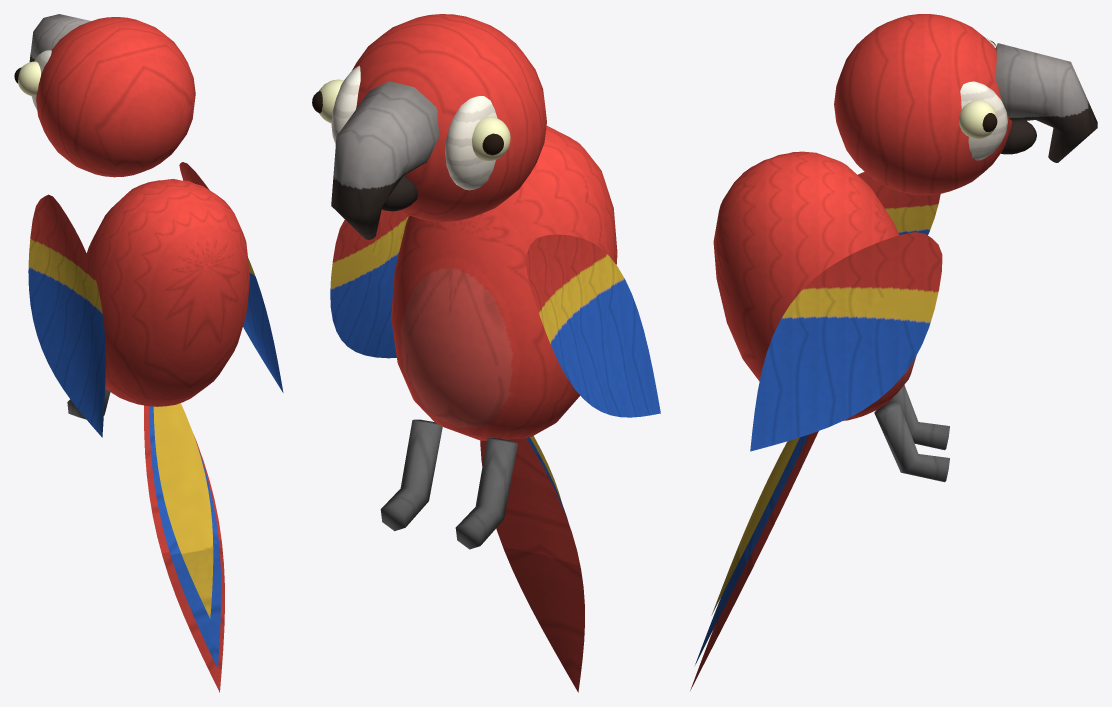
File: parrot.glb
3 views of the same model, side by side, from view 1: azimuth 30°, elevation 25°; view 2: azimuth 150°, elevation 25°; view 3: azimuth 270°, elevation 25° (orthographic). The views are drawn at different scales.
Visible parts, largest first — view 1: Body, Head, WingL, WingR; view 2: Body, Head, WingL, WingR; view 3: Head, Body, WingR, WingL.
Part boxes in pixels (bbox=[...]): Body: bbox=[67, 179, 249, 692]; Head: bbox=[14, 14, 195, 177]; WingL: bbox=[28, 194, 105, 437]; WingR: bbox=[179, 162, 283, 392]; Body: bbox=[380, 126, 617, 692]; Head: bbox=[312, 14, 546, 239]; WingL: bbox=[526, 234, 660, 417]; WingR: bbox=[330, 209, 408, 358]; Head: bbox=[834, 14, 1097, 195]; Body: bbox=[690, 151, 949, 690]; WingR: bbox=[750, 232, 942, 451]; WingL: bbox=[857, 172, 940, 235].
Size of the model in its own units: 0.3278 by 0.9784 by 0.5398.
1 material, 1 textured.
